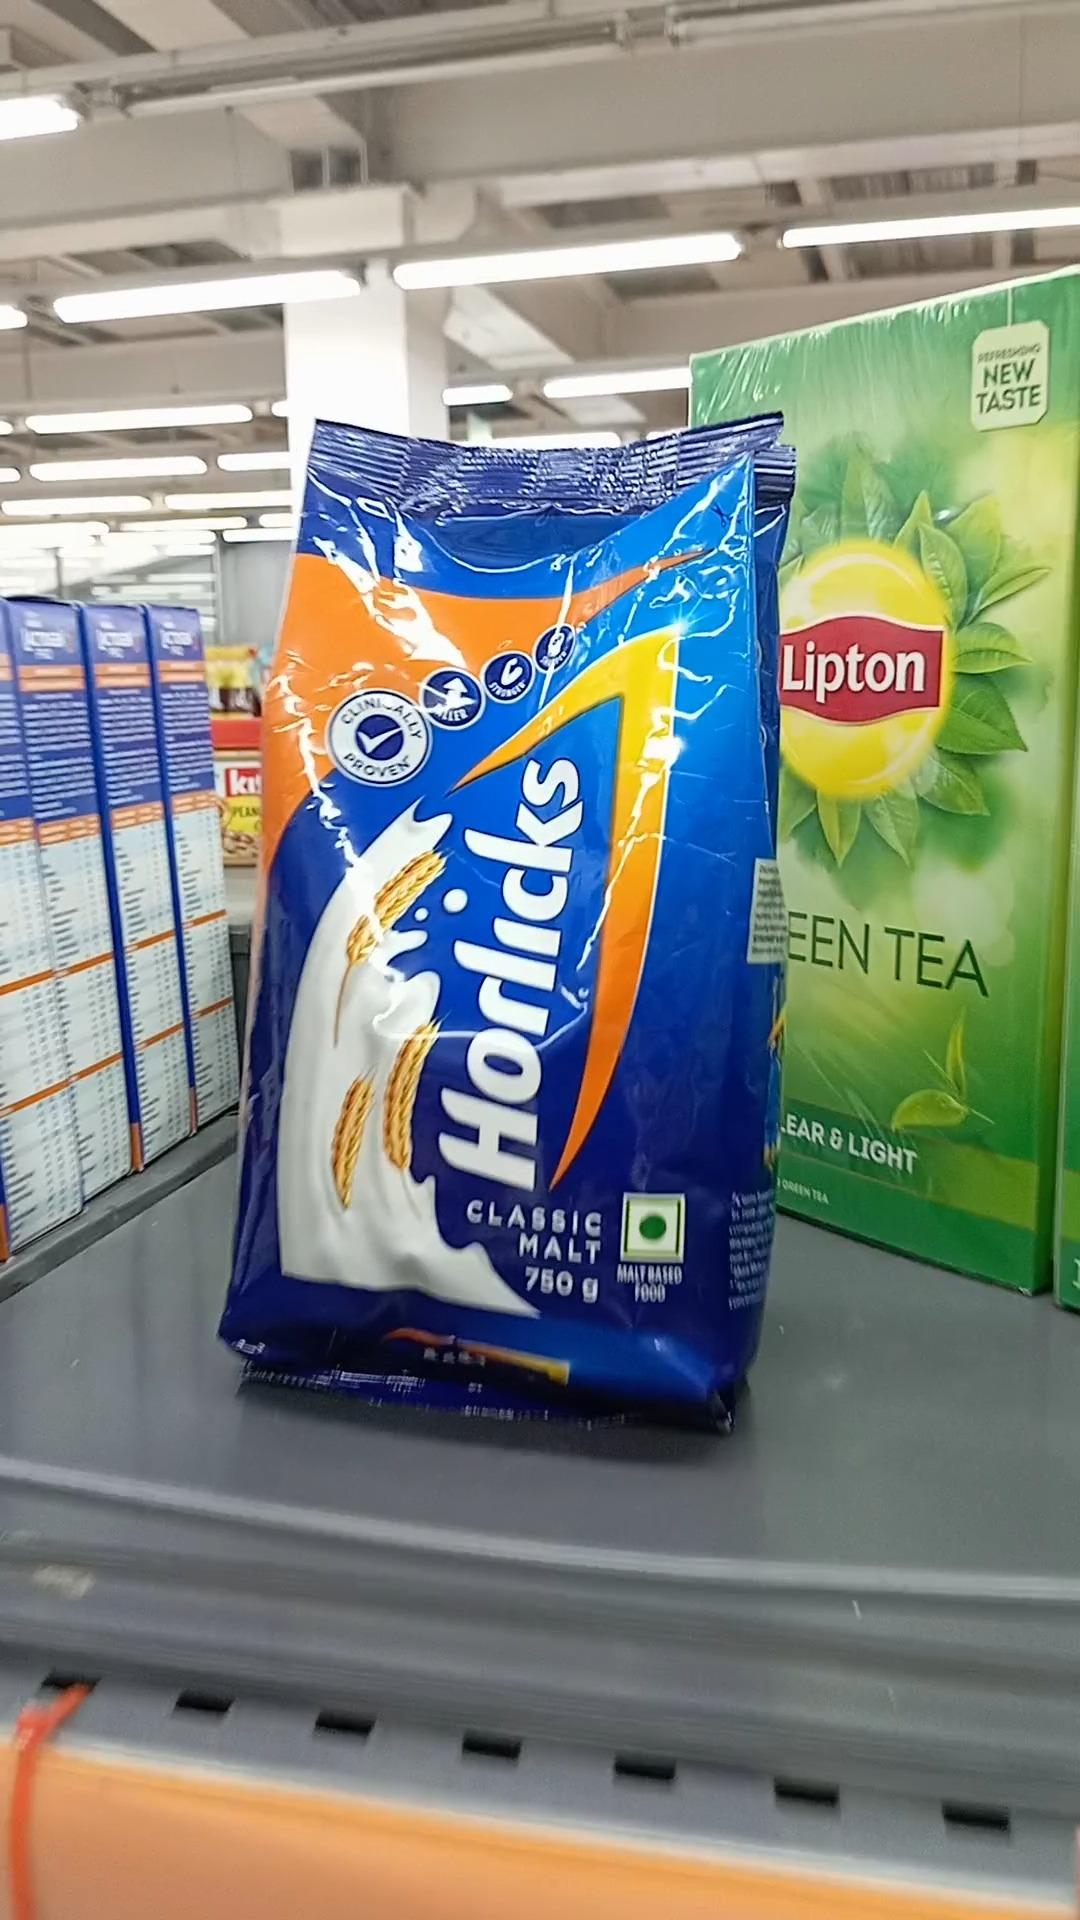HORLICK_CLASSIC_MALT_750_G_POUCH: (272, 401, 775, 1412)
